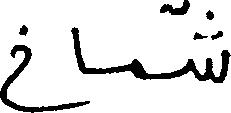X: (190, 5, 230, 87), (0, 20, 27, 112), (73, 22, 83, 112), (132, 54, 144, 84)
